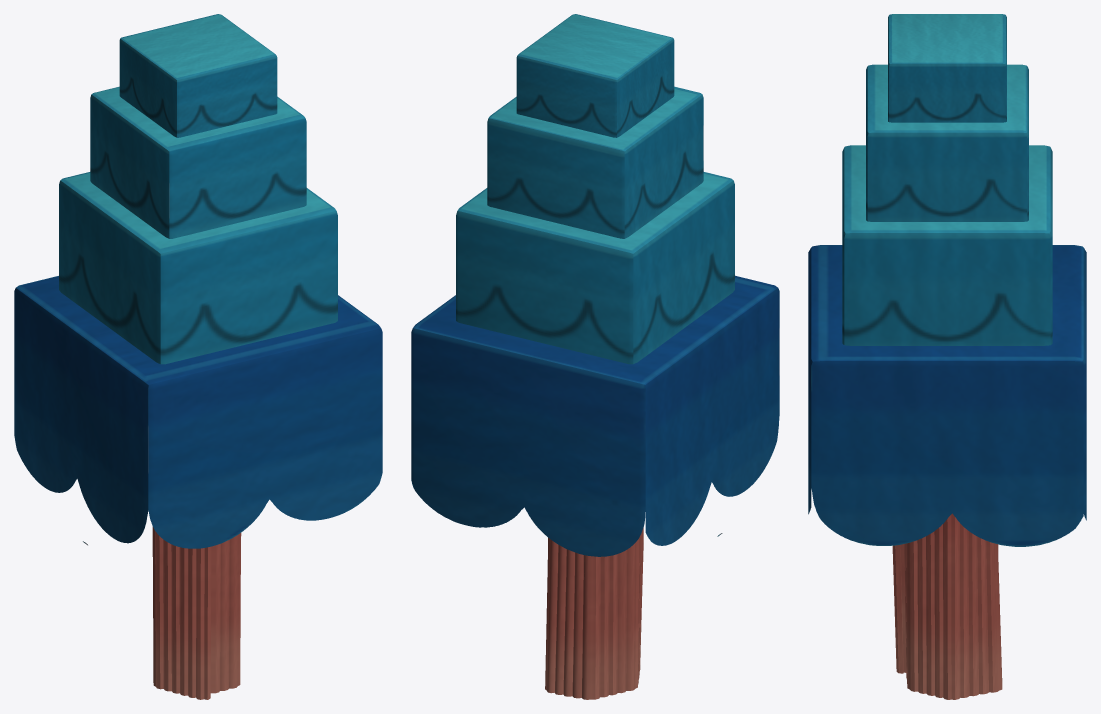
File: prp_cube_tree_b.fbx
3 views of the same model, side by side, from view 1: azimuth 30°, elevation 25°; view 2: azimuth 150°, elevation 25°; view 3: azimuth 270°, elevation 25° (orthographic).
Parts seen in each view (by area): view 1: Bush1; view 2: Bush1; view 3: Bush1.
Part boxes in pixels (x1=…): Bush1: x1=14, y1=14, x2=382, y2=699; Bush1: x1=411, y1=14, x2=779, y2=699; Bush1: x1=808, y1=14, x2=1086, y2=699.
Size of the model in its own units: 98.7 by 251 by 98.7.
